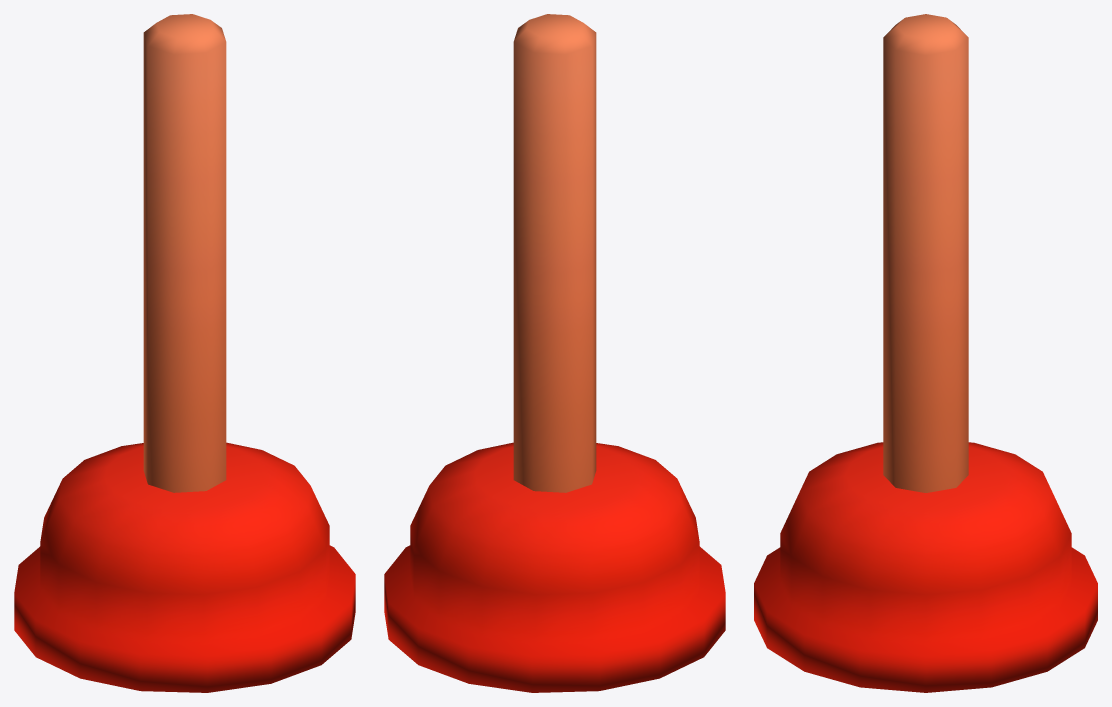
File: SM_Plunger.fbx
3 renders of one model, left to right at view 1: azimuth 30°, elevation 25°; view 2: azimuth 150°, elevation 25°; view 3: azimuth 270°, elevation 25°, orthographic.
Visible parts, largest first — view 1: SM_Plunger; view 2: SM_Plunger; view 3: SM_Plunger.
Boxes of the visible parts, left/top/right/bottom form: SM_Plunger: left=14, top=14, right=355, bottom=692; SM_Plunger: left=384, top=14, right=725, bottom=692; SM_Plunger: left=754, top=14, right=1097, bottom=692.
Size of the model in its own units: 25.06 by 47.75 by 25.06.
Materials: 1 (1 with a texture image).
